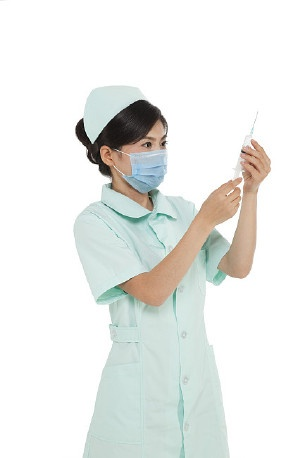Mask: (122, 133, 183, 193)
